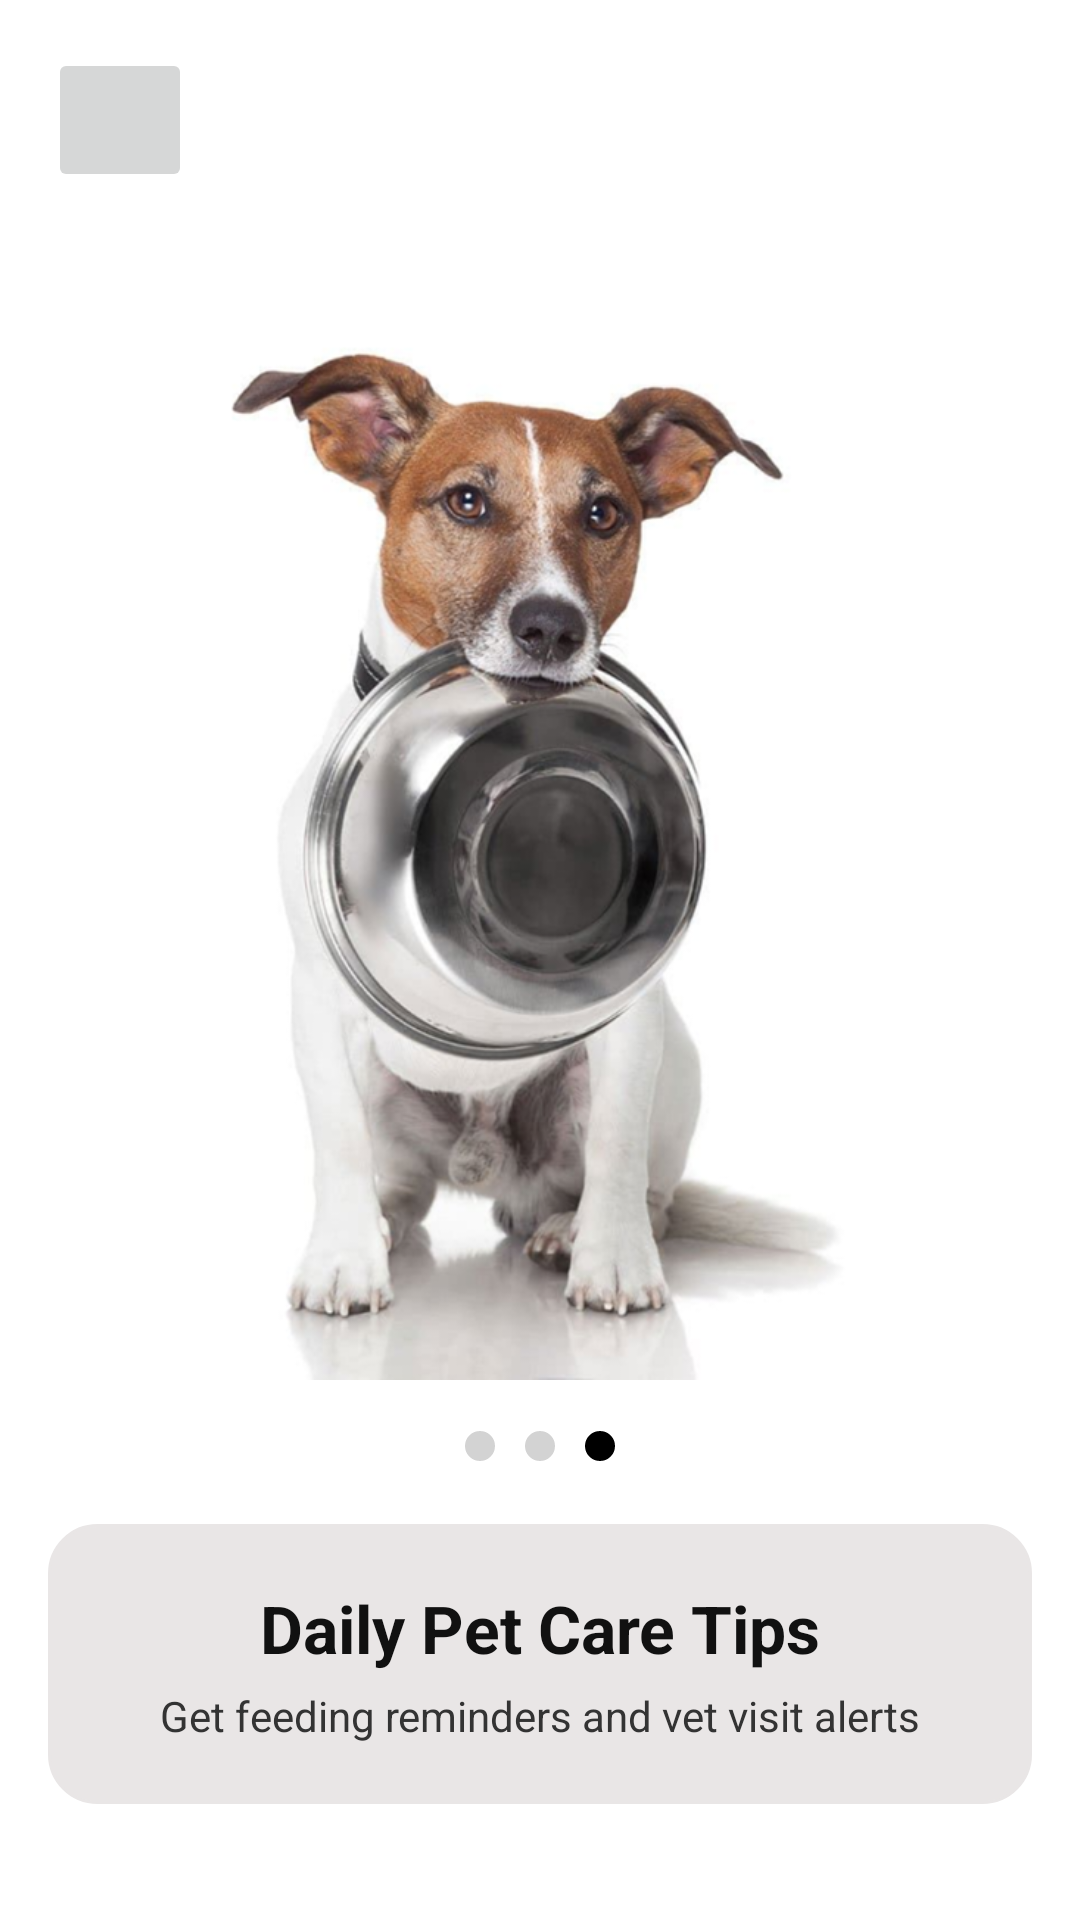

Screen size 1080*1920. Icon name, then its center in pixels as point (x, y):
dot: point (600, 1446)
